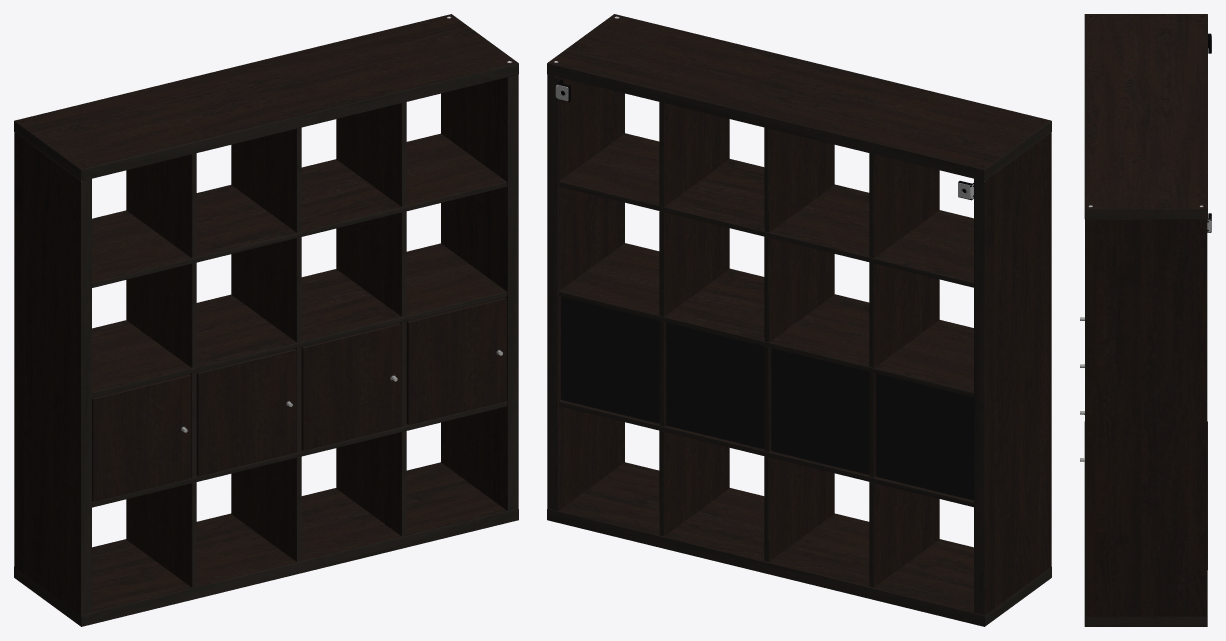
The model's file is 16 - KALLAX Shelving unit with 4 inserts - black-brown 147x147 cm.glb.
3 renders of one model, left to right at view 1: azimuth 30°, elevation 25°; view 2: azimuth 150°, elevation 25°; view 3: azimuth 270°, elevation 25°, orthographic. The views are drawn at different scales.
Parts seen in each view (by area): view 1: Mesh_0; view 2: Mesh_0; view 3: Mesh_0.
Part boxes in pixels (left/top/right/bottom): Mesh_0: left=14, top=14, right=518, bottom=626; Mesh_0: left=547, top=14, right=1051, bottom=626; Mesh_0: left=1080, top=14, right=1211, bottom=626.
Bounding box in the file's own units: 1.47 × 1.47 × 0.4196.
1 material, 1 textured.
